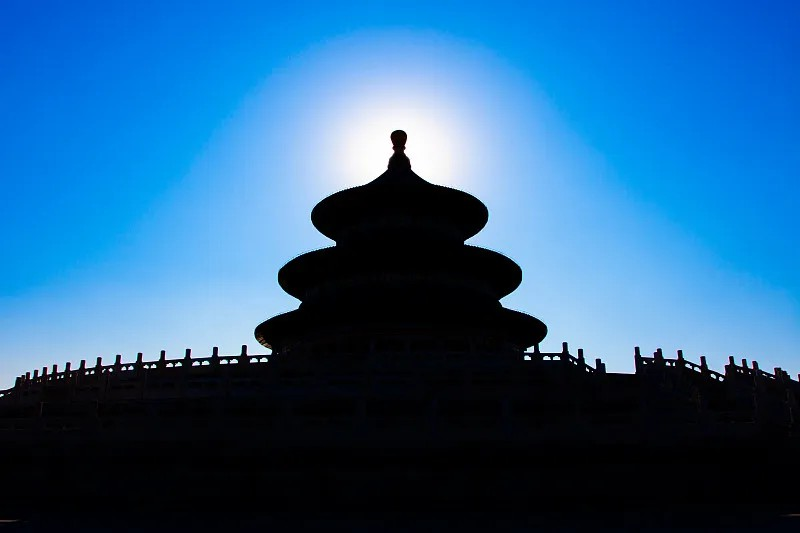Heaven: (254, 129, 548, 361)
